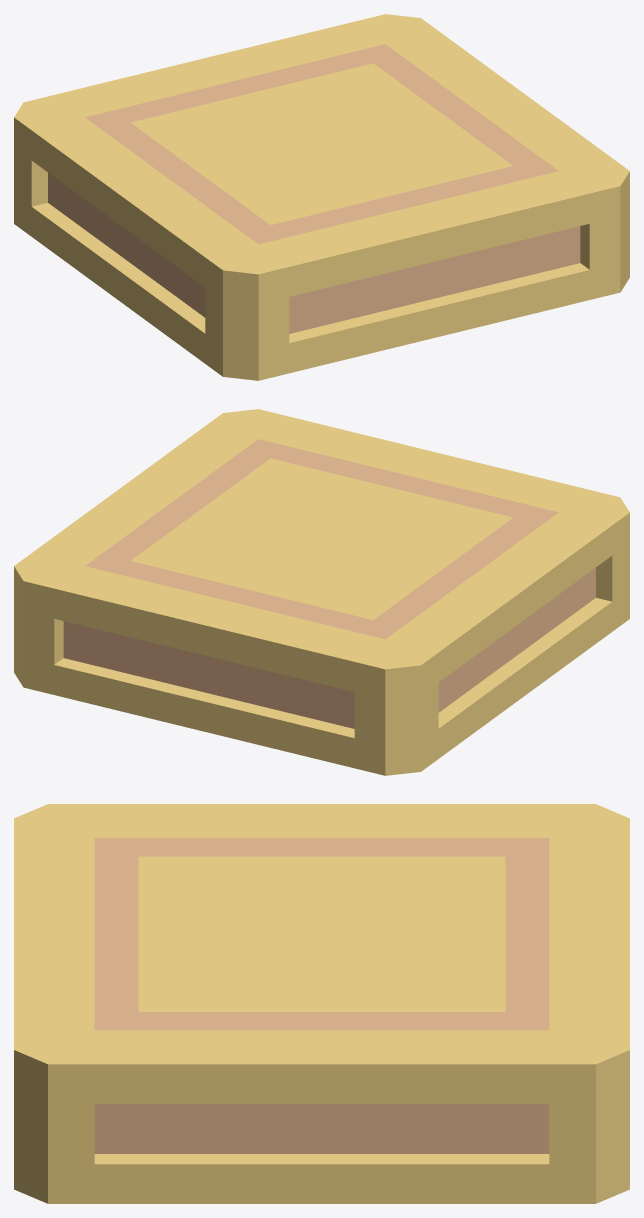
File: blockMoving.glb
3 views of the same model, one above another, from view 1: azimuth 30°, elevation 25°; view 2: azimuth 150°, elevation 25°; view 3: azimuth 270°, elevation 25° (orthographic). The views are drawn at different scales.
Visible parts, largest first — view 1: blockMoving(Clone); view 2: blockMoving(Clone); view 3: blockMoving(Clone).
Boxes of the visible parts, x1=… form: blockMoving(Clone): x1=14, y1=14, x2=629, y2=380; blockMoving(Clone): x1=14, y1=409, x2=629, y2=775; blockMoving(Clone): x1=14, y1=804, x2=629, y2=1203.
Bounding box in the file's own units: 1 × 0.25 × 1.
